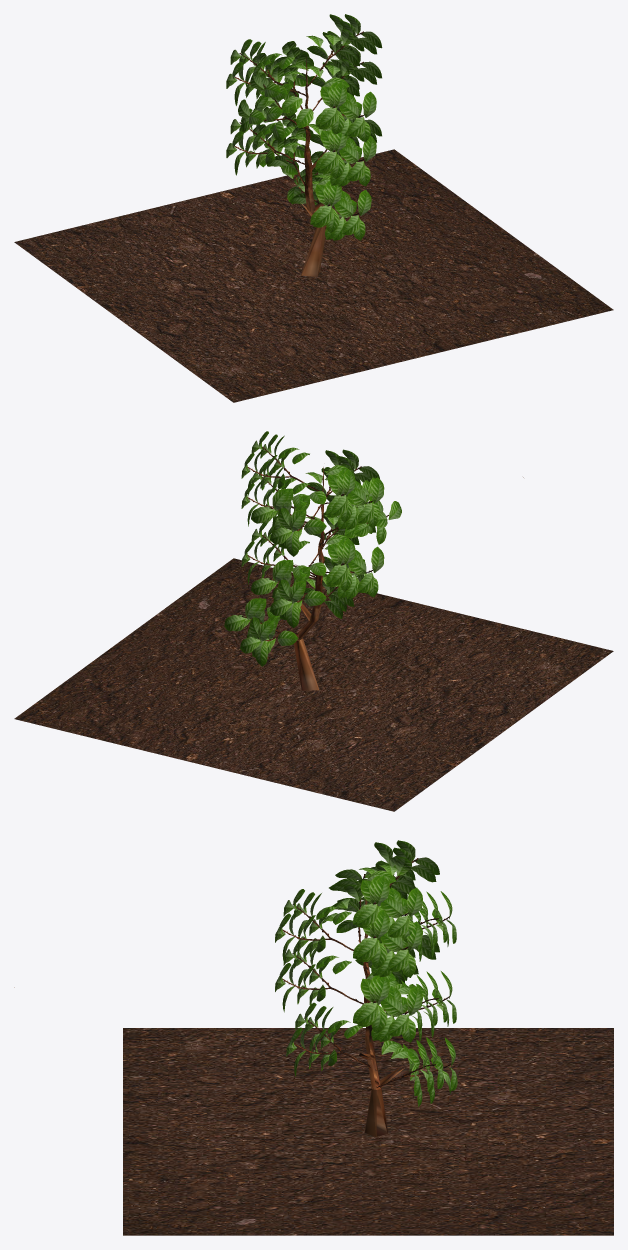
The model's file is PLANT3.glb.
The picture shows the model from 3 angles, top to bottom: view 1: azimuth 30°, elevation 25°; view 2: azimuth 150°, elevation 25°; view 3: azimuth 270°, elevation 25°; orthographic projection. The views are drawn at different scales.
Parts seen in each view (by area): view 1: Plane, Tree.Birch_sub02.001; view 2: Plane, Tree.Birch_sub02.001; view 3: Plane, Tree.Birch_sub02.001.
Boxes of the visible parts, bbox=[...] form: Plane: bbox=[14, 149, 613, 402]; Tree.Birch_sub02.001: bbox=[301, 57, 422, 299]; Plane: bbox=[14, 558, 613, 811]; Tree.Birch_sub02.001: bbox=[294, 467, 523, 690]; Plane: bbox=[123, 1028, 613, 1235]; Tree.Birch_sub02.001: bbox=[14, 879, 404, 1136].
Size of the model in its own units: 13.76 by 8.78 by 16.82.
5 materials, 4 textured.
